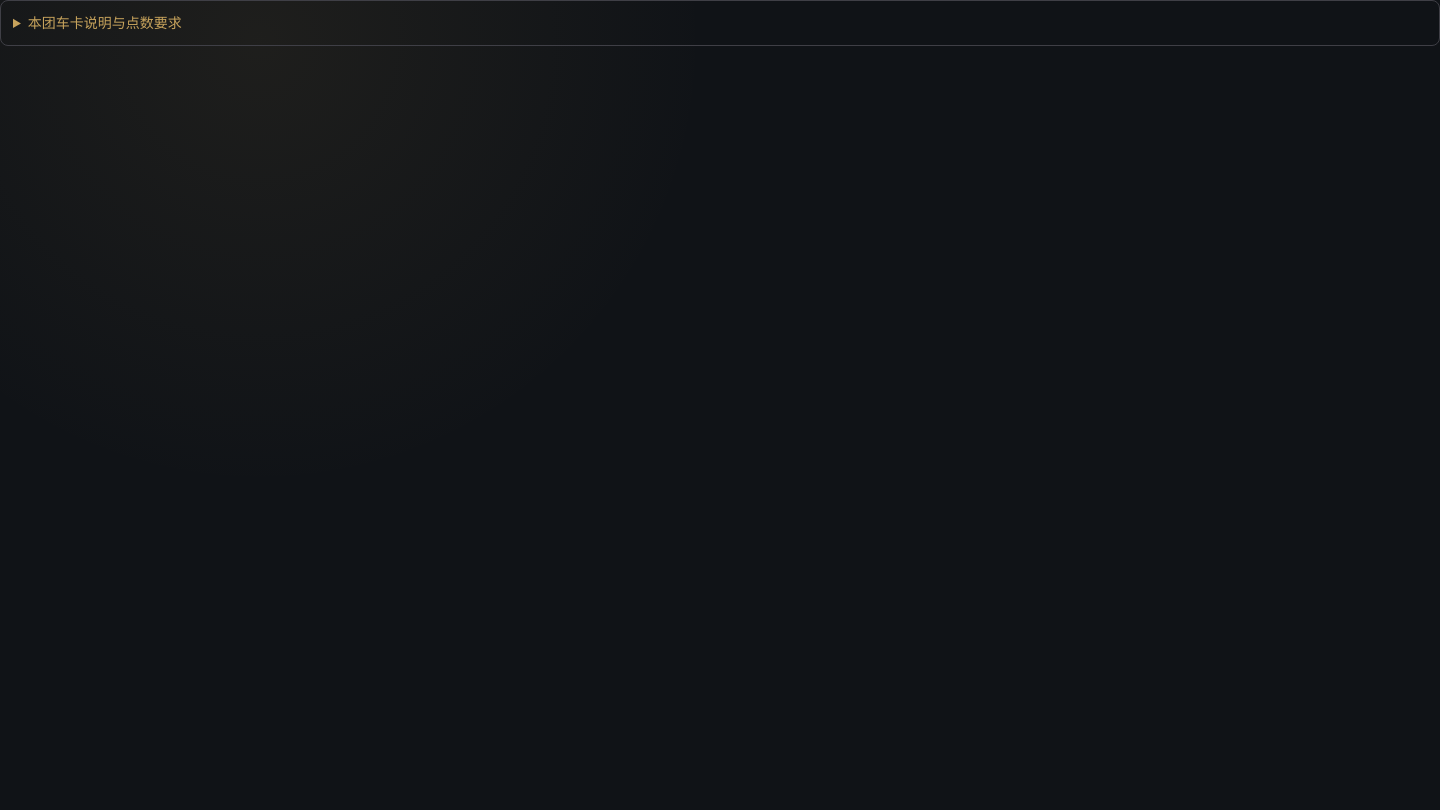
Test case: publishes only the explicitly previewed public brief and rules, without changing default visibility
The image size is (1440, 810).
Later steps or results of the test are not shown.
Click the heading "本团车卡说明与点数要求" at (105, 22), box [28, 14, 182, 31]
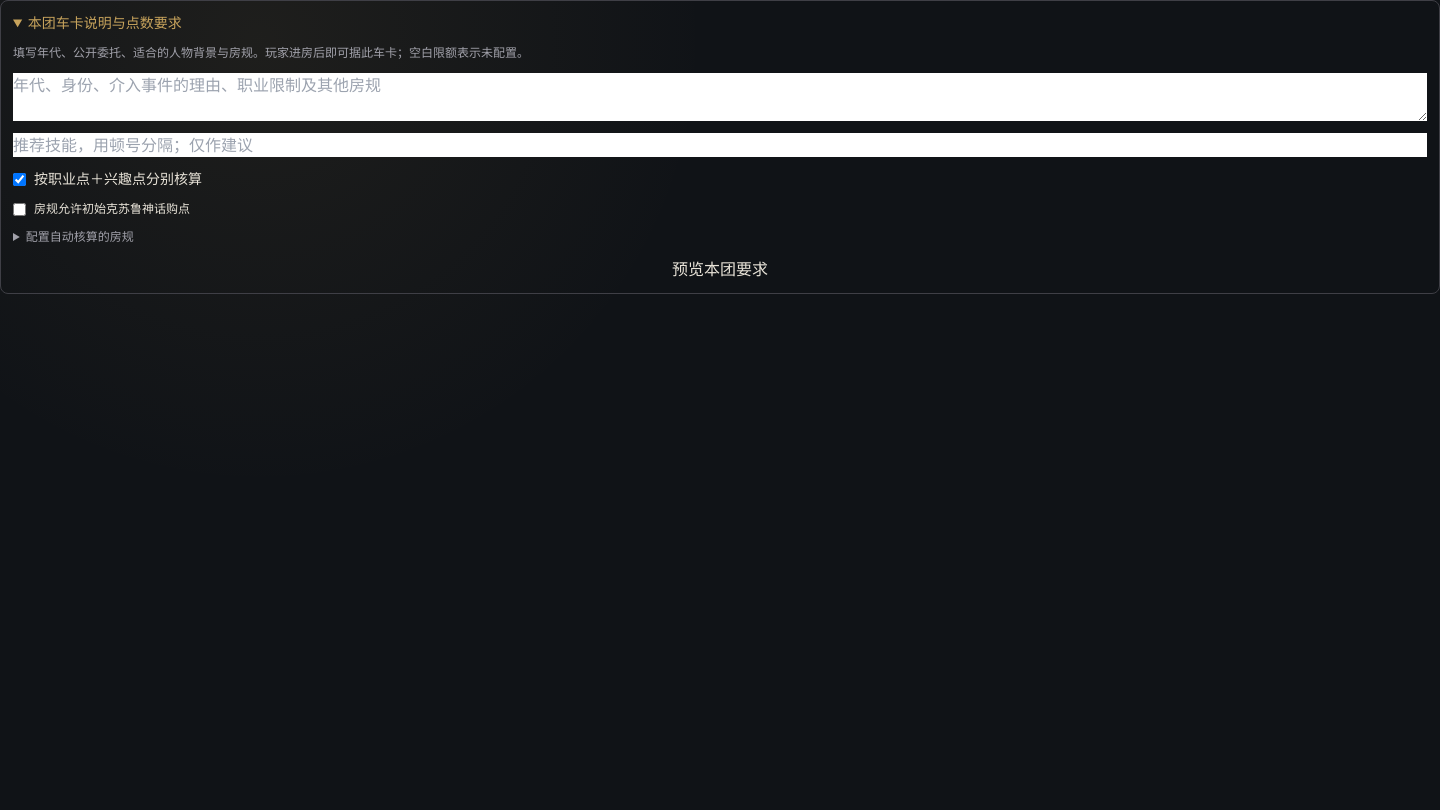
Type "1920 年代，受邀调查失踪事件。" into the text box named "本团公开车卡说明" at (720, 97), box [13, 73, 1427, 121]
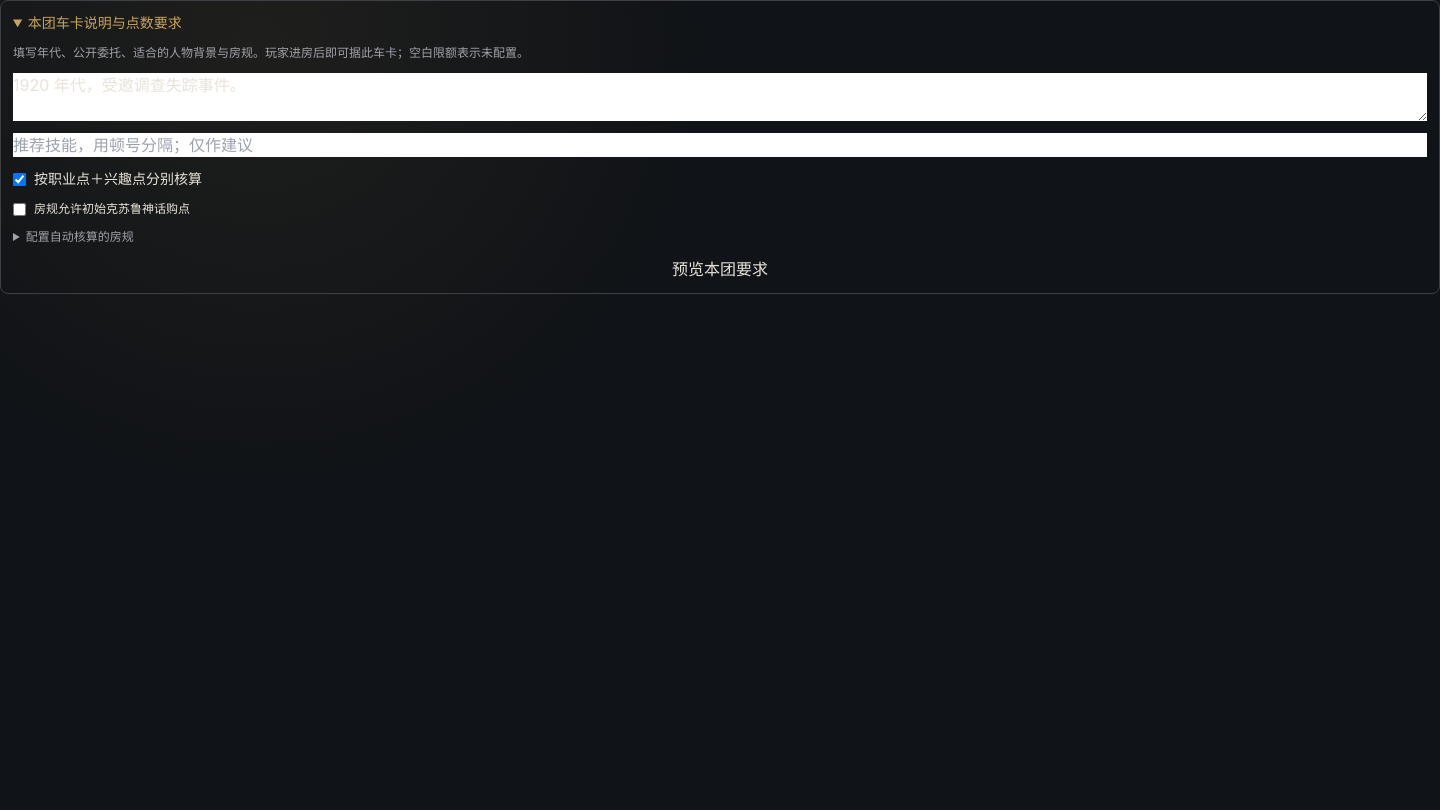
Type "侦查、聆听" into the field named "本团推荐技能" at (720, 145), box [13, 133, 1427, 157]
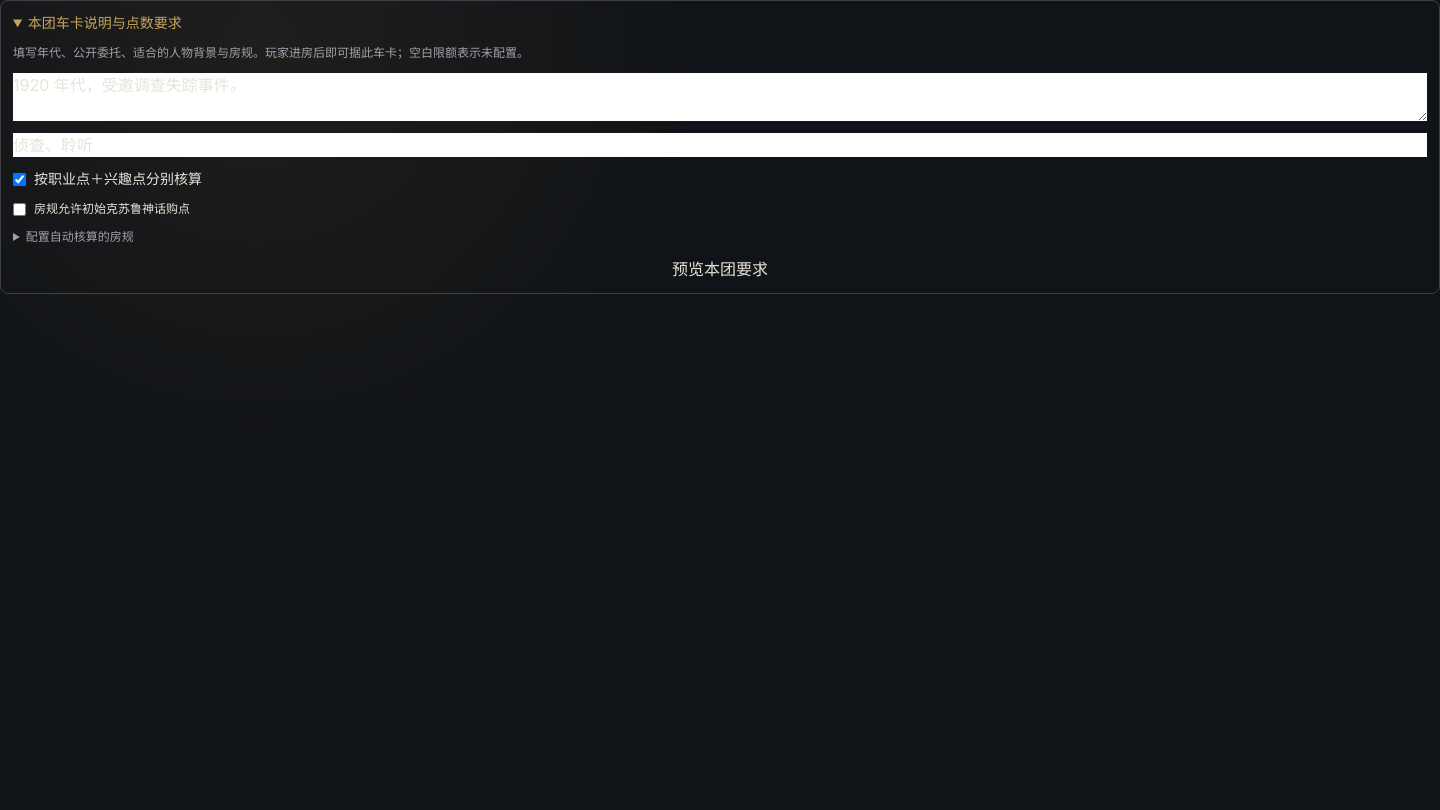
Click the heading "配置自动核算的房规" at (80, 236), box [26, 229, 134, 244]
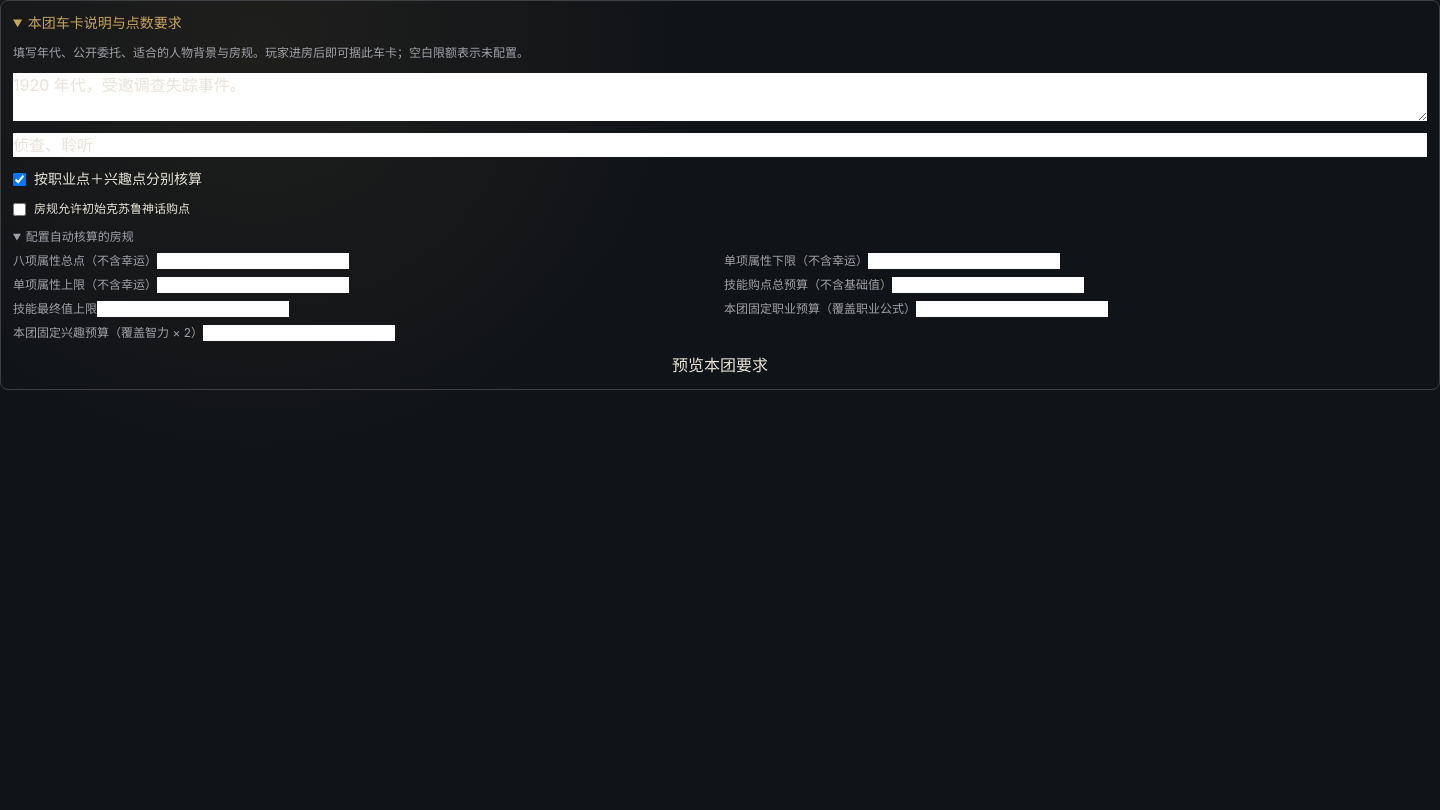
Type "300" into the number field labelled "技能购点总预算（不含基础值）" at (988, 285), box [892, 277, 1084, 293]
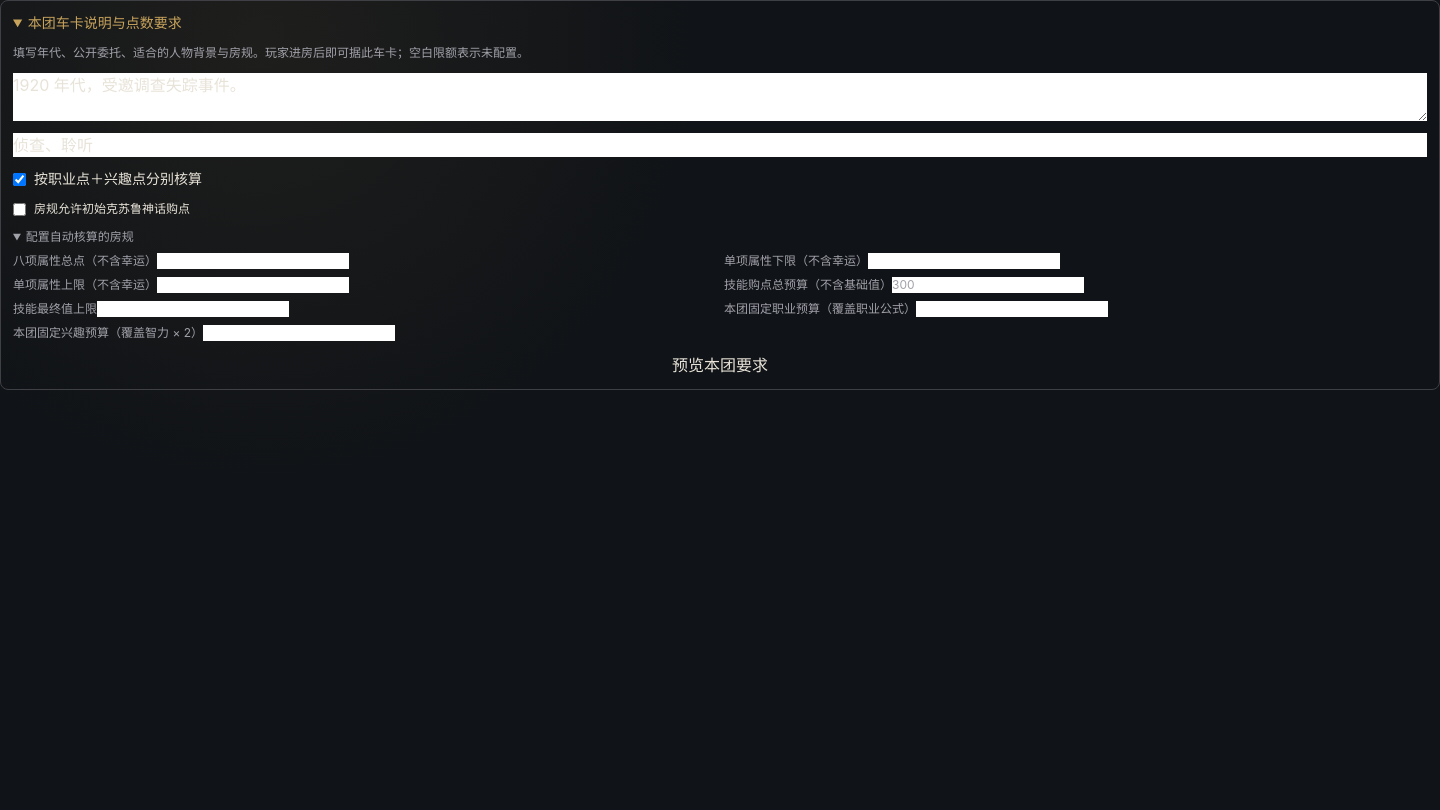
Click the button "预览本团要求" at (720, 365), box [13, 353, 1427, 377]
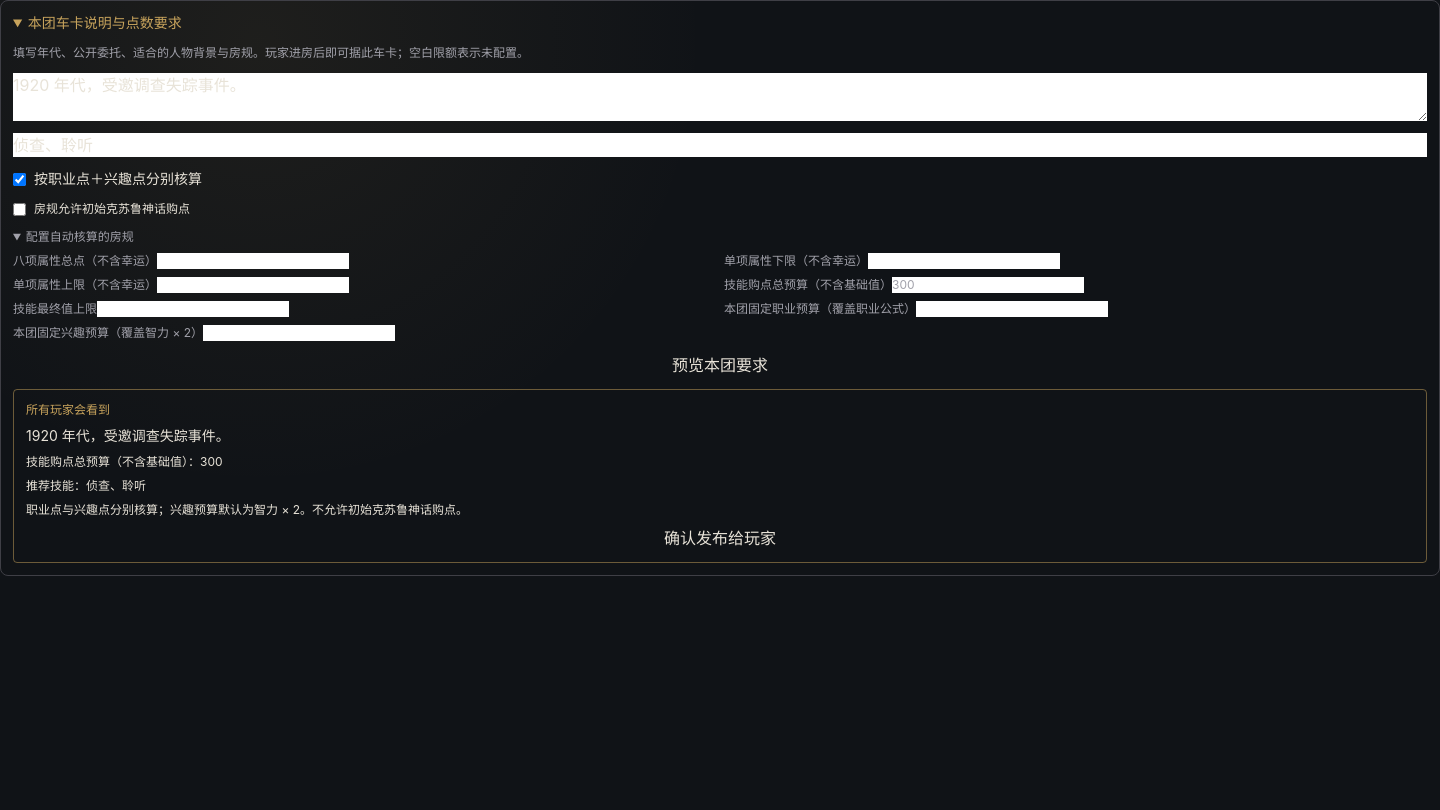
Result: the element named "车卡要求公开预览" shows "300" at [200, 454, 223, 469]
